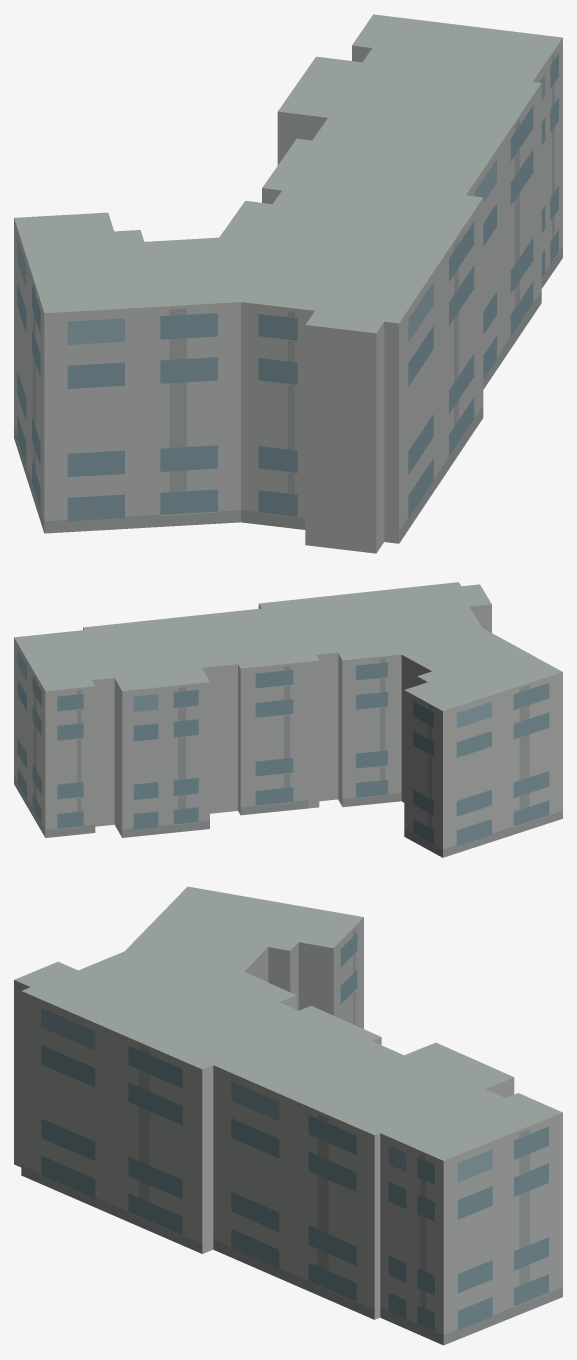
Rendered from residential-9caabcf3-bc99-43f0-bd08-63ca707515c0.glb.
3 views of the same model, one above another, from view 1: azimuth 30°, elevation 25°; view 2: azimuth 150°, elevation 25°; view 3: azimuth 270°, elevation 25° (orthographic). The views are drawn at different scales.
Visible parts, largest first — view 1: residential-9caabcf3-bc99-43f0-bd08-63ca707515c0.tmp; view 2: residential-9caabcf3-bc99-43f0-bd08-63ca707515c0.tmp; view 3: residential-9caabcf3-bc99-43f0-bd08-63ca707515c0.tmp.
Boxes of the visible parts, x1,y1,x2,y2 form: residential-9caabcf3-bc99-43f0-bd08-63ca707515c0.tmp: [14, 14, 562, 553]; residential-9caabcf3-bc99-43f0-bd08-63ca707515c0.tmp: [14, 582, 562, 857]; residential-9caabcf3-bc99-43f0-bd08-63ca707515c0.tmp: [14, 886, 562, 1345].
Size of the model in its own units: 48.64 by 15.25 by 41.11.
